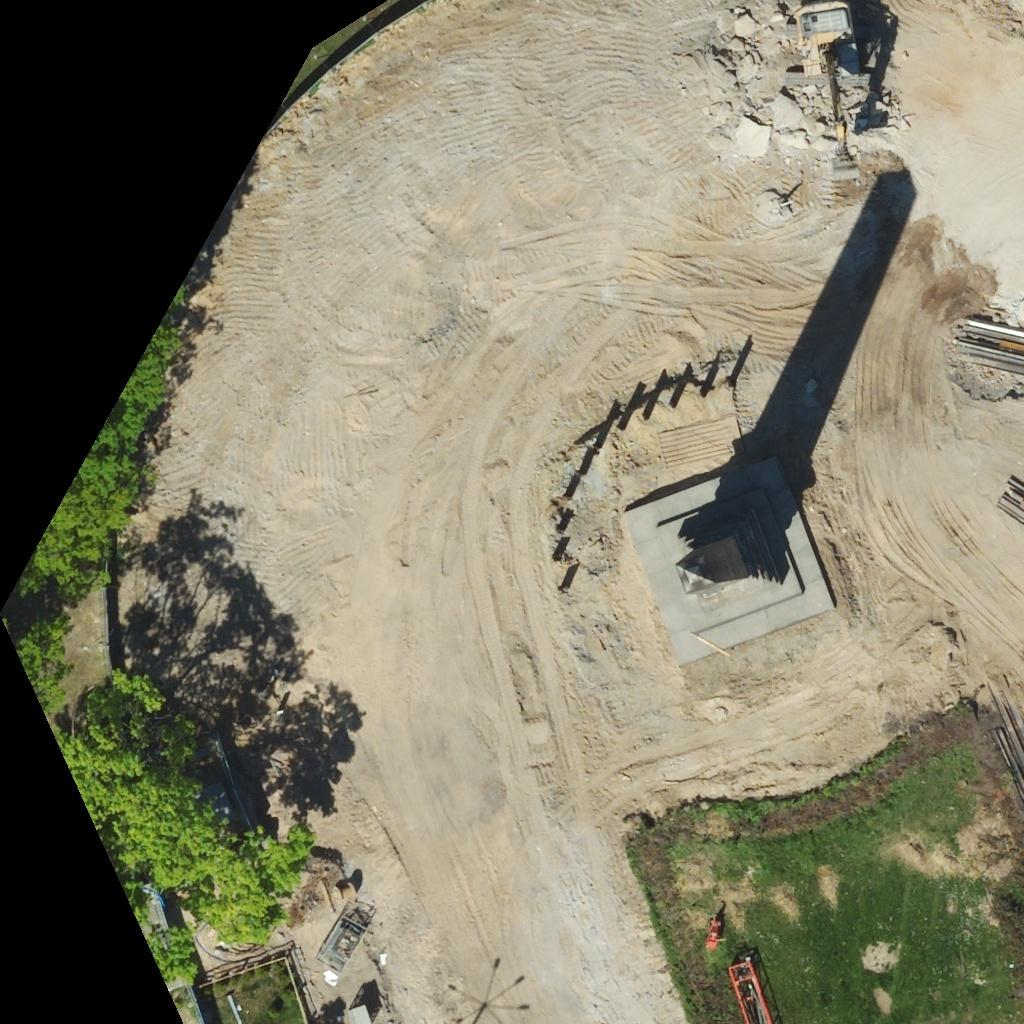koparka: (786, 0, 869, 177)
